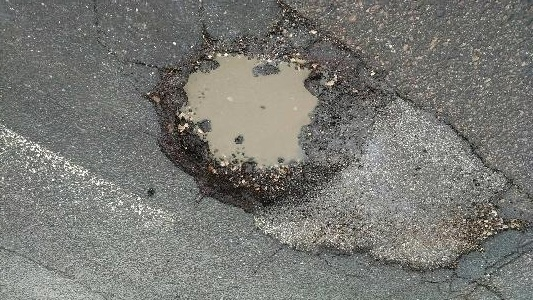pothole: (147, 34, 345, 217)
